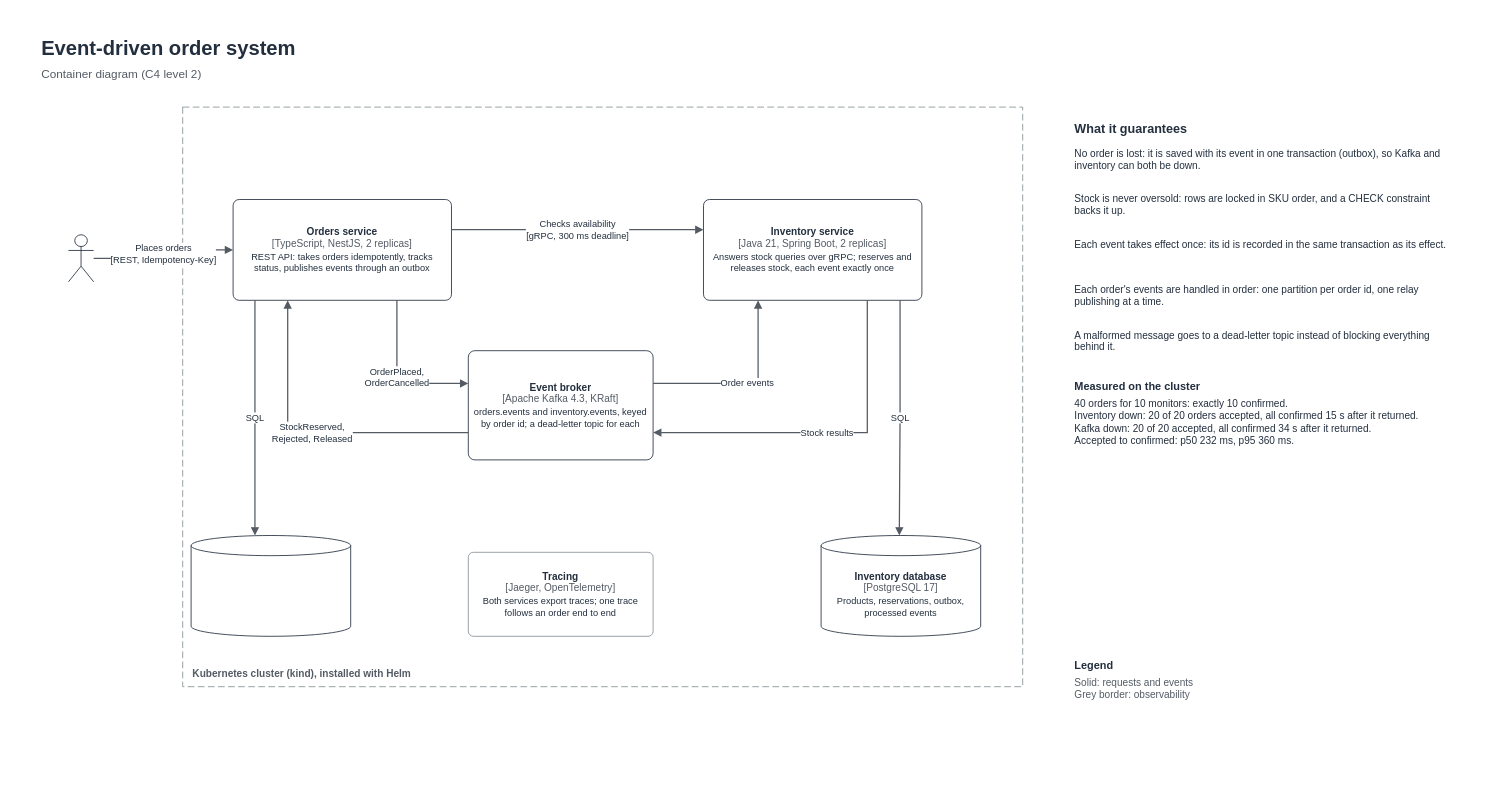
The diagram is 1507 pixels wide and 785 high, and some of its shapes have lost their labels. The centre of each missing label's shape, as x and y in pixels:
Customer's app (places and tracks orders): point (81, 258)
Orders database [PostgreSQL 17] Orders, lines, outbox, processed events: point (270, 585)
